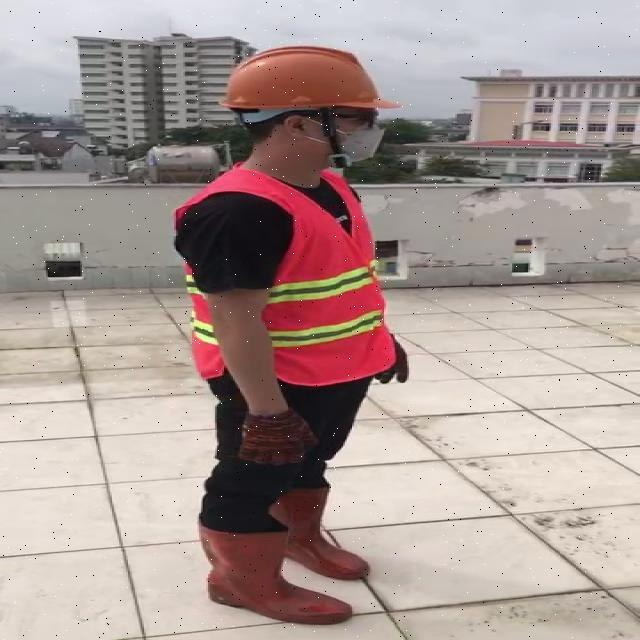Hard_hat: (219, 39, 404, 127)
Vest: (259, 166, 390, 391)
